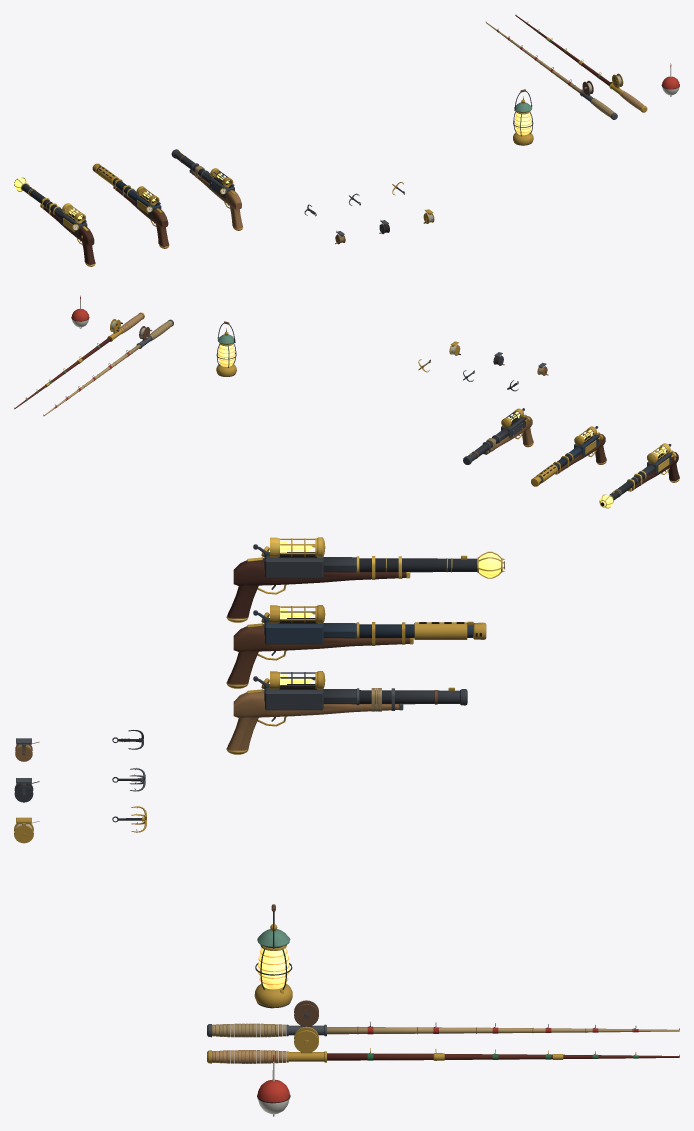
Rendered from viewmodels.glb.
The picture shows the model from 3 angles, top to bottom: view 1: azimuth 30°, elevation 25°; view 2: azimuth 150°, elevation 25°; view 3: azimuth 270°, elevation 25°; orthographic projection. The views are drawn at different scales.
Parts seen in each view (by area): view 1: VM_lamplighter, VM_boltcaster_mk2, VM_boltcaster_mk1, VM_lantern, VM_rod_reinforced, VM_rod_basic; view 2: VM_lamplighter, VM_boltcaster_mk2, VM_boltcaster_mk1, VM_lantern, VM_rod_basic, VM_rod_reinforced; view 3: VM_lamplighter, VM_boltcaster_mk2, VM_boltcaster_mk1, VM_rod_reinforced, VM_rod_basic, VM_lantern, VM_bobber.
Part boxes in pixels (x1=…): VM_lamplighter: x1=14, y1=177, x2=95, y2=266; VM_boltcaster_mk2: x1=92, y1=163, x2=169, y2=248; VM_boltcaster_mk1: x1=171, y1=149, x2=242, y2=230; VM_lantern: x1=513, y1=89, x2=533, y2=145; VM_rod_reinforced: x1=515, y1=14, x2=647, y2=112; VM_rod_basic: x1=486, y1=21, x2=617, y2=119; VM_lamplighter: x1=599, y1=443, x2=679, y2=508; VM_boltcaster_mk2: x1=531, y1=426, x2=606, y2=486; VM_boltcaster_mk1: x1=463, y1=408, x2=533, y2=464; VM_lantern: x1=216, y1=321, x2=236, y2=376; VM_rod_basic: x1=43, y1=319, x2=173, y2=416; VM_rod_reinforced: x1=14, y1=312, x2=144, y2=409; VM_lamplighter: x1=226, y1=537, x2=504, y2=622; VM_boltcaster_mk2: x1=226, y1=605, x2=486, y2=688; VM_boltcaster_mk1: x1=226, y1=671, x2=467, y2=754; VM_rod_reinforced: x1=207, y1=1026, x2=679, y2=1063; VM_rod_basic: x1=207, y1=1000, x2=679, y2=1037; VM_lantern: x1=254, y1=904, x2=292, y2=1008; VM_bobber: x1=257, y1=1055, x2=290, y2=1116.
Size of the model in its own units: 4.12 by 0.3938 by 2.13.
